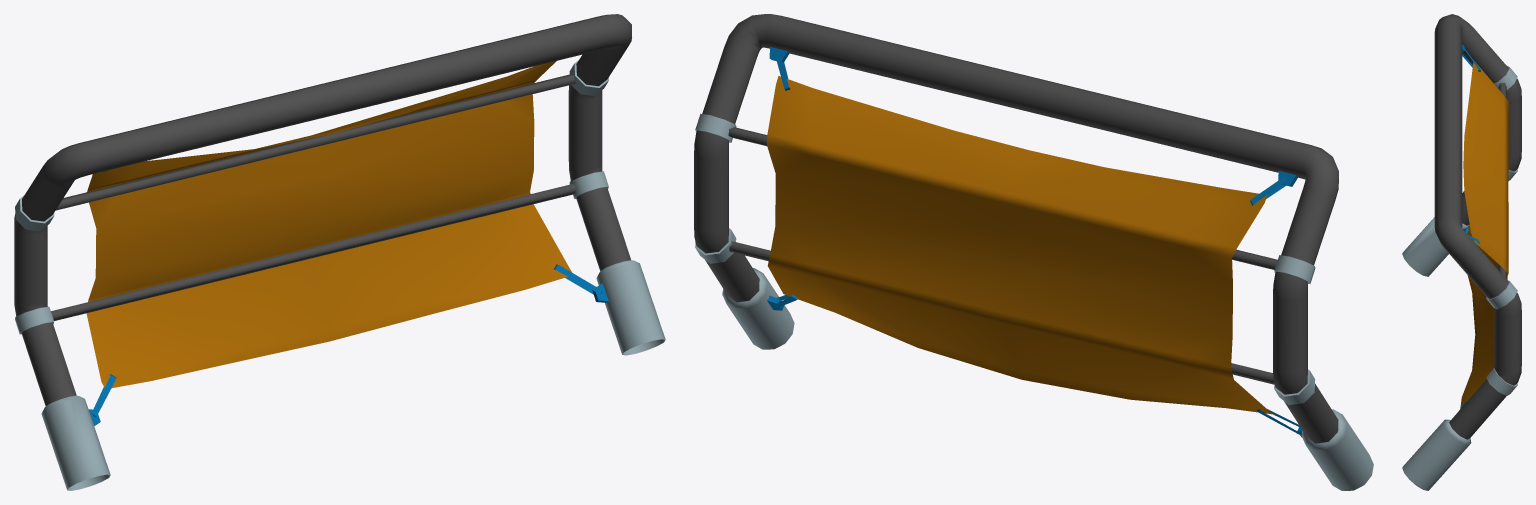
The model's file is env_building_warehouse01fence02B_lod0.fbx.
The picture shows the model from 3 angles, left to right: view 1: azimuth 30°, elevation 25°; view 2: azimuth 150°, elevation 25°; view 3: azimuth 270°, elevation 25°; orthographic projection. The views are drawn at different scales.
Visible parts, largest first — view 1: env_building_warehouse01fence02B_lod0; view 2: env_building_warehouse01fence02B_lod0; view 3: env_building_warehouse01fence02B_lod0.
Boxes of the visible parts, x1,y1,x2,y2 form: env_building_warehouse01fence02B_lod0: (14, 14, 665, 490); env_building_warehouse01fence02B_lod0: (694, 14, 1373, 490); env_building_warehouse01fence02B_lod0: (1402, 14, 1521, 490).
Size of the model in its own units: 61.93 by 33.23 by 13.65.
